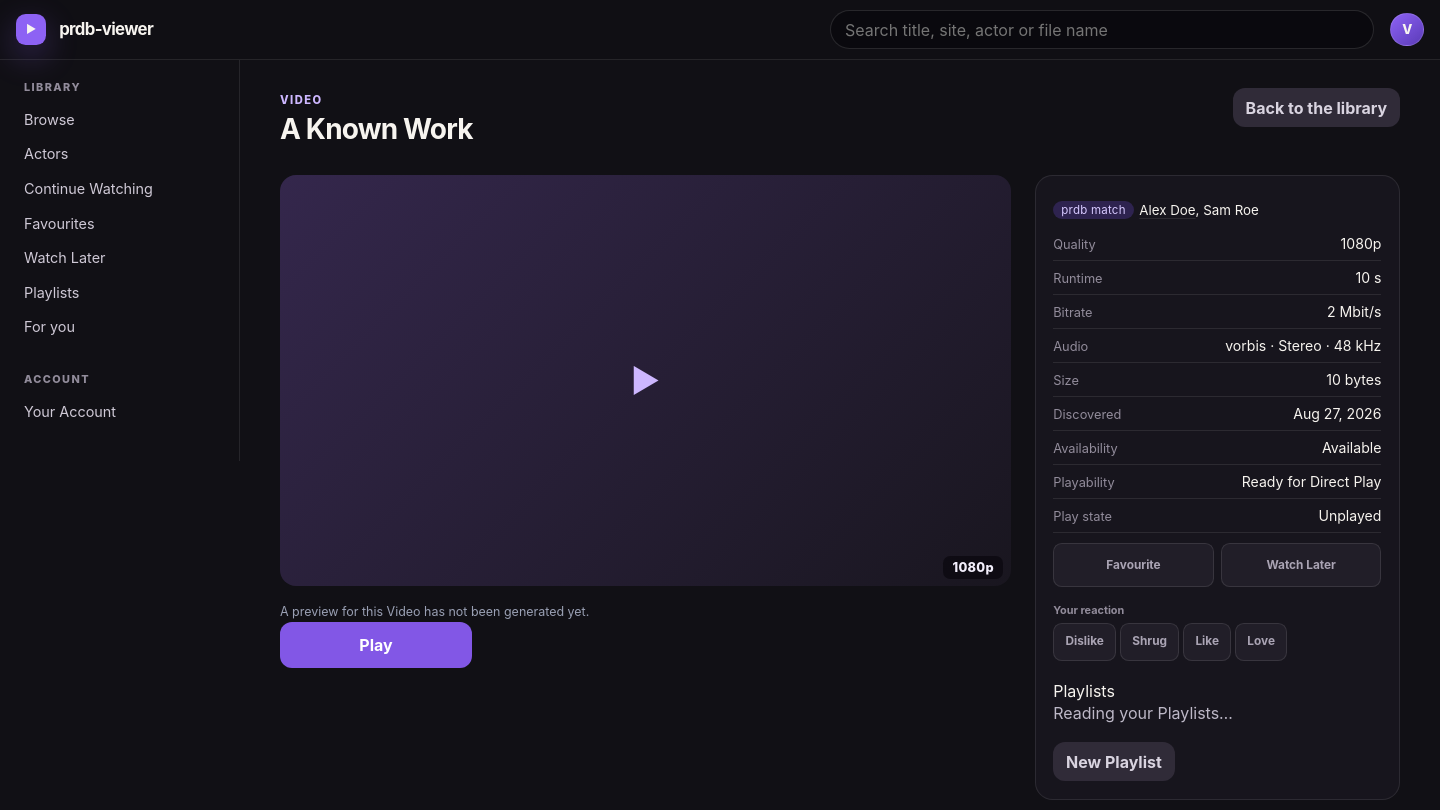
Test case: ActorPage › is reached from a Video, and leads back to it
This screenshot has width=1440, height=810.
Expected: the text "Sam Roe" is shown, [1203, 202, 1259, 218]
Click the link "Alex Doe" at (1167, 210), box [1139, 202, 1196, 218]
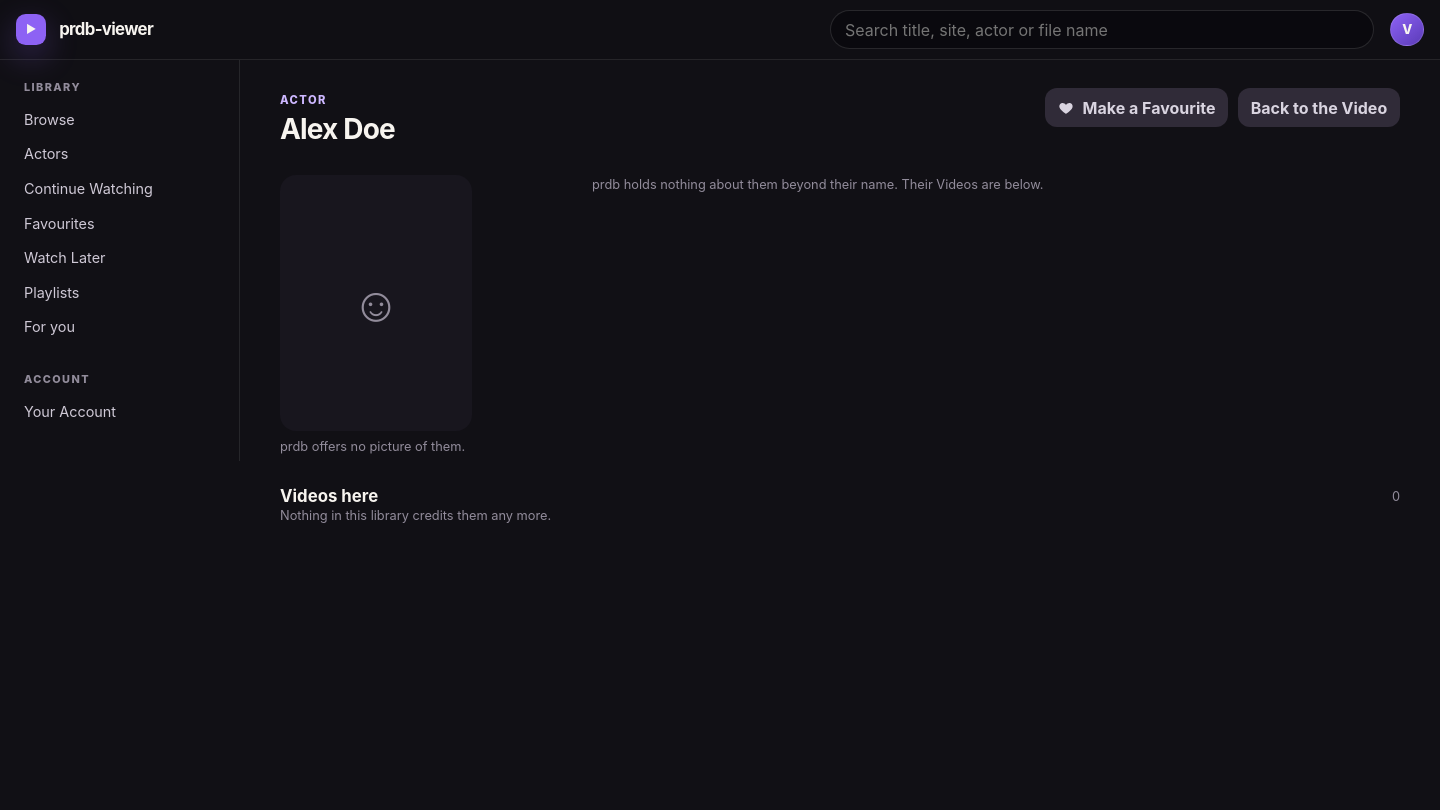
Now the heading "Alex Doe" is shown, box [280, 113, 395, 145]
Now the link "Back to the Video" is shown, box [1238, 88, 1400, 127]
